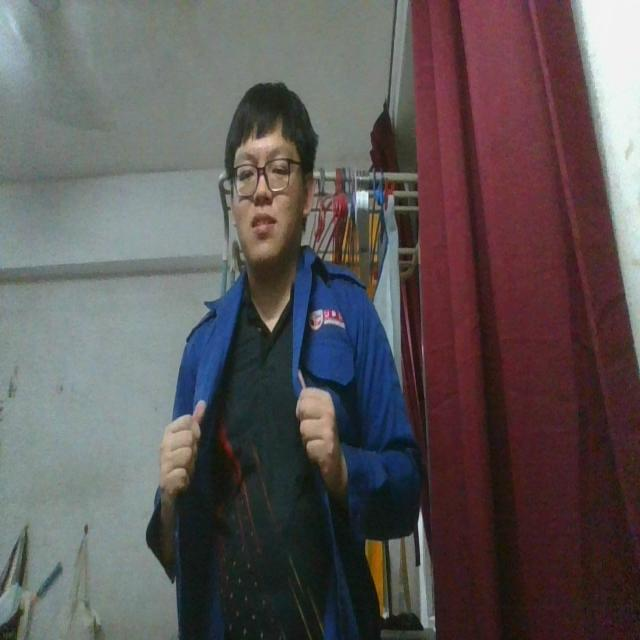person_with_labcoat: (147, 84, 420, 639)
